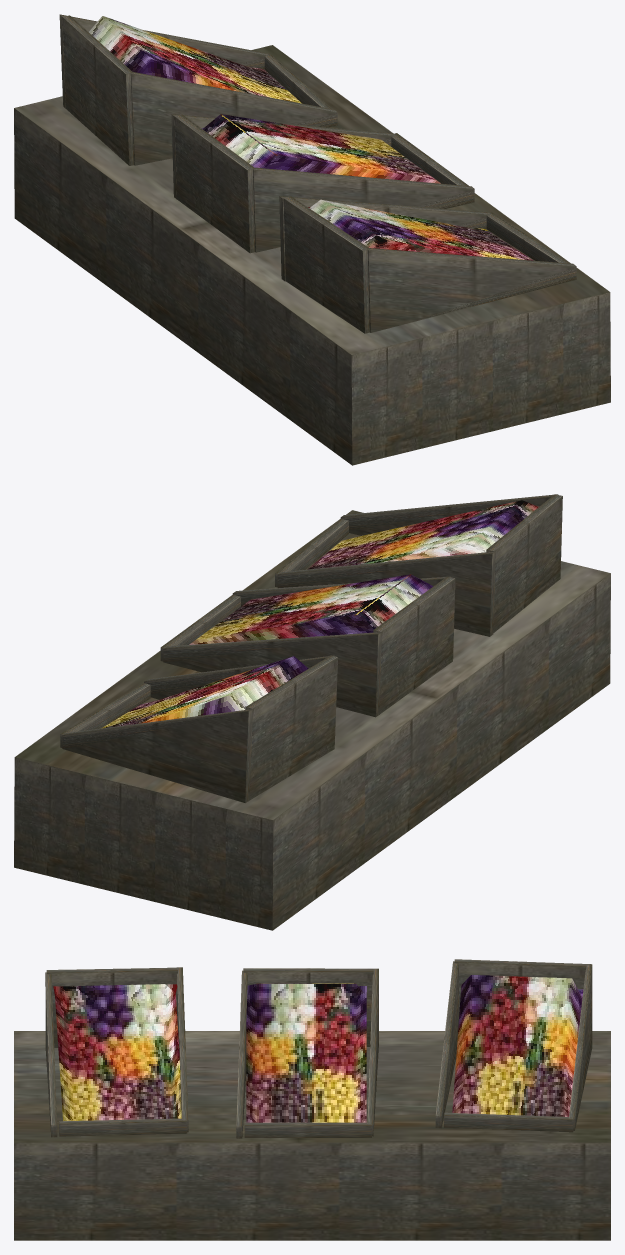
The model's file is vegetable.glb.
3 views of the same model, one above another, from view 1: azimuth 30°, elevation 25°; view 2: azimuth 150°, elevation 25°; view 3: azimuth 270°, elevation 25° (orthographic). The views are drawn at different scales.
Parts seen in each view (by area): view 1: vegtable.ms3d.mo; view 2: vegtable.ms3d.mo; view 3: vegtable.ms3d.mo.
Boxes of the visible parts, x1,y1,x2,y2 form: vegtable.ms3d.mo: (14,14,610,465); vegtable.ms3d.mo: (14,494,610,930); vegtable.ms3d.mo: (14,959,610,1240).
Bounding box in the file's own units: 27.15 × 20.34 × 61.22.
Materials: 2 (2 with a texture image).
